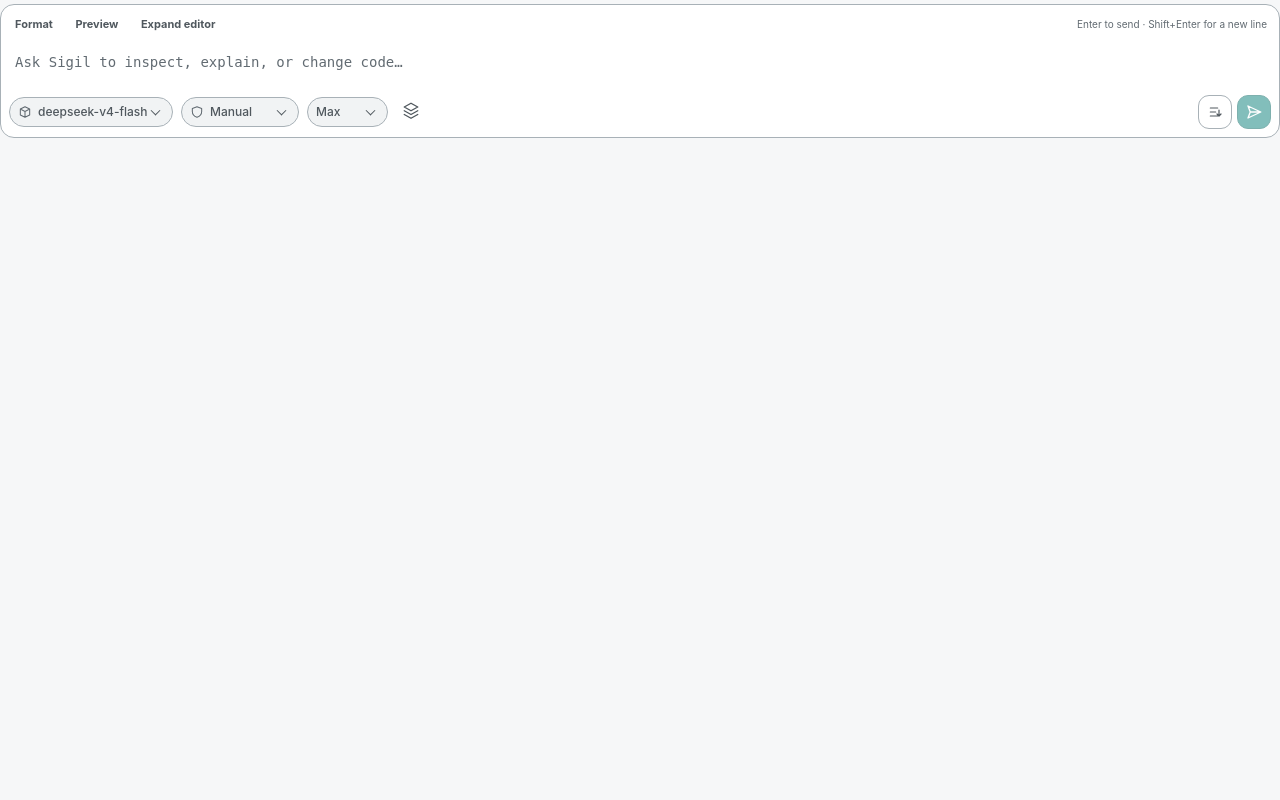
Test: structured composer › keeps observed cache diagnostics available when context capacity is unknown
The width and height of the screenshot is (1280, 800).
Click the button named "Context and cache details" at (411, 110), box [396, 95, 426, 125]
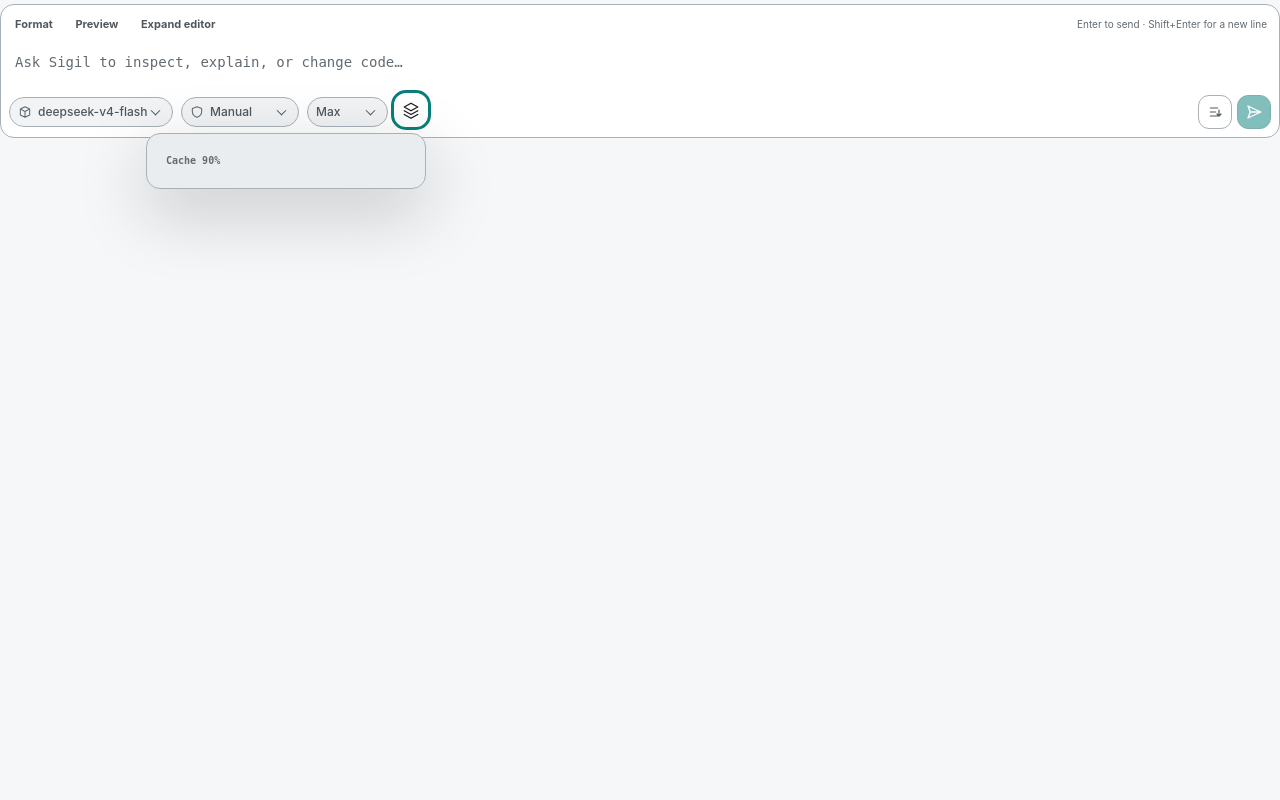
Expected: the text named "Prompt cache hit ratio 90%" is shown, [166, 155, 220, 166]
